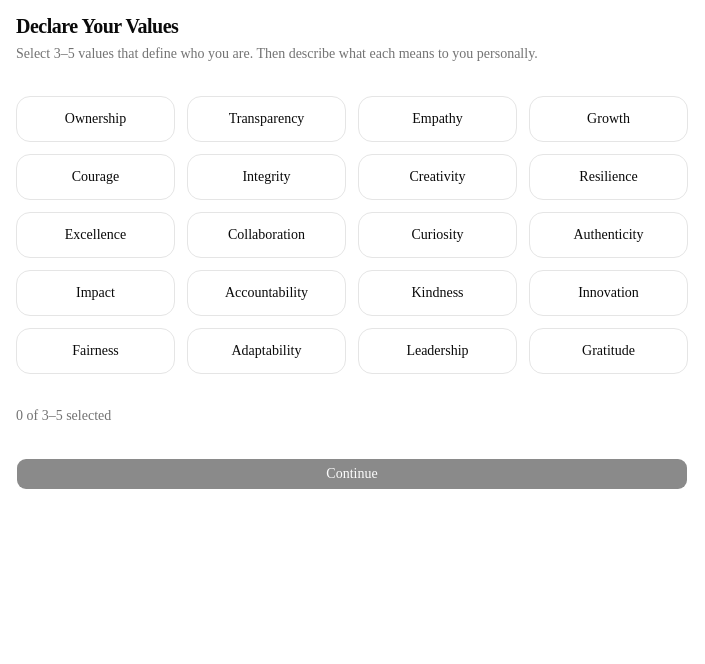
Test case: ValuesDeclaration › selects a value on click and shows context card
Click the button "Courage".
click(96, 177)  # box [16,154,175,200]
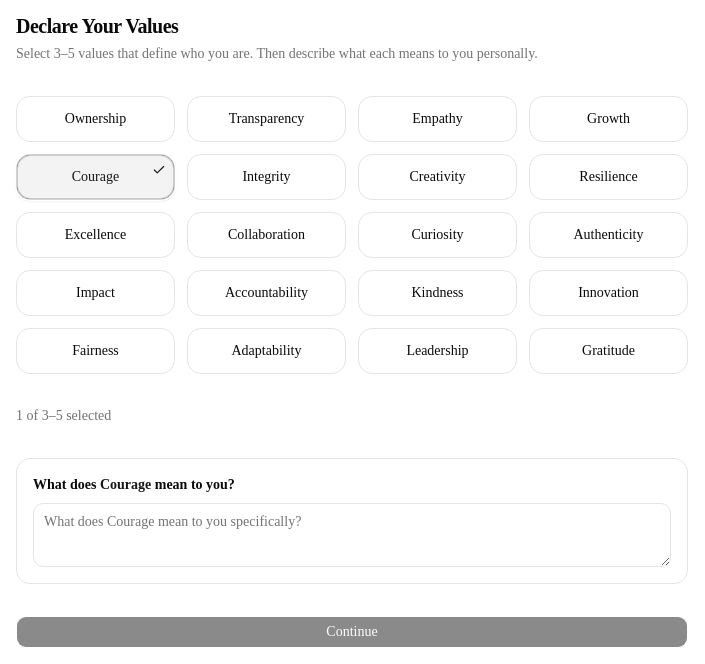
Check: the text "1 of 3–5 selected" is shown, box [16,408,111,423]
Check: the text box with placeholder "What does Courage mean to you specifically?" is shown, box [33,503,671,567]
